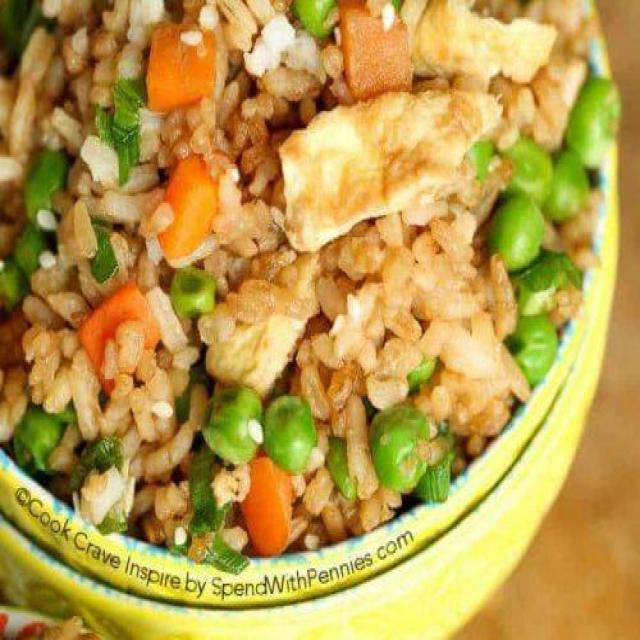Nasi Goreng: (0, 0, 617, 570)
